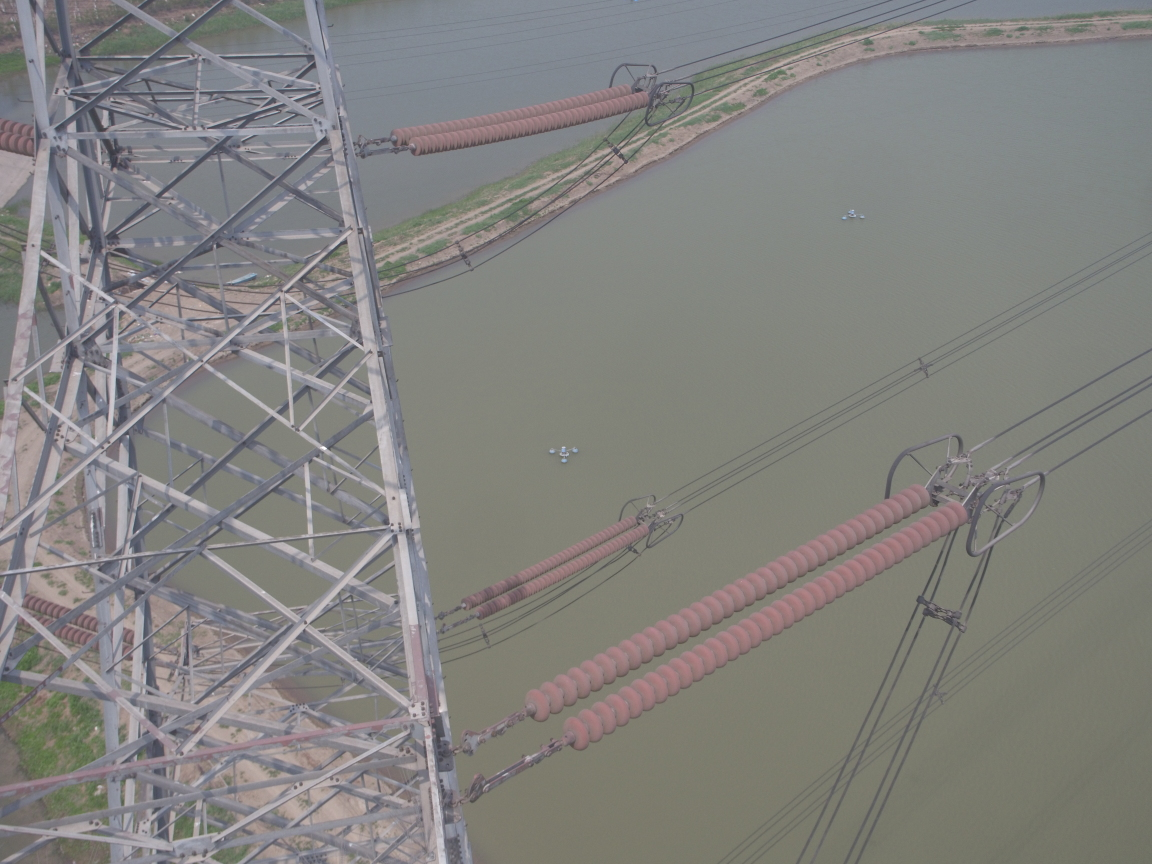insulator: (504, 476, 977, 757), (448, 508, 654, 623), (376, 78, 658, 156)
